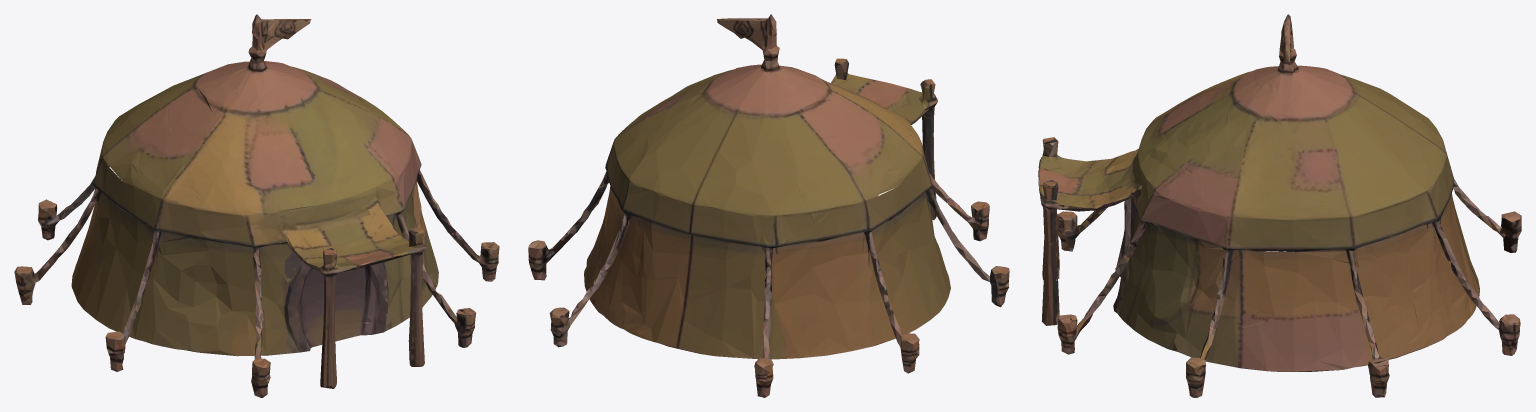
Rendered from tent_b.glb.
3 renders of one model, left to right at view 1: azimuth 30°, elevation 25°; view 2: azimuth 150°, elevation 25°; view 3: azimuth 270°, elevation 25°, orthographic. The views are drawn at different scales.
Visible parts, largest first — view 1: geometry_0; view 2: geometry_0; view 3: geometry_0.
Part boxes in pixels (left/top/right/bottom): geometry_0: left=14, top=14, right=499, bottom=397; geometry_0: left=528, top=14, right=1009, bottom=397; geometry_0: left=1038, top=14, right=1521, bottom=397.
Bounding box in the file's own units: 2.71 × 1.84 × 2.8.
1 material, 1 textured.
